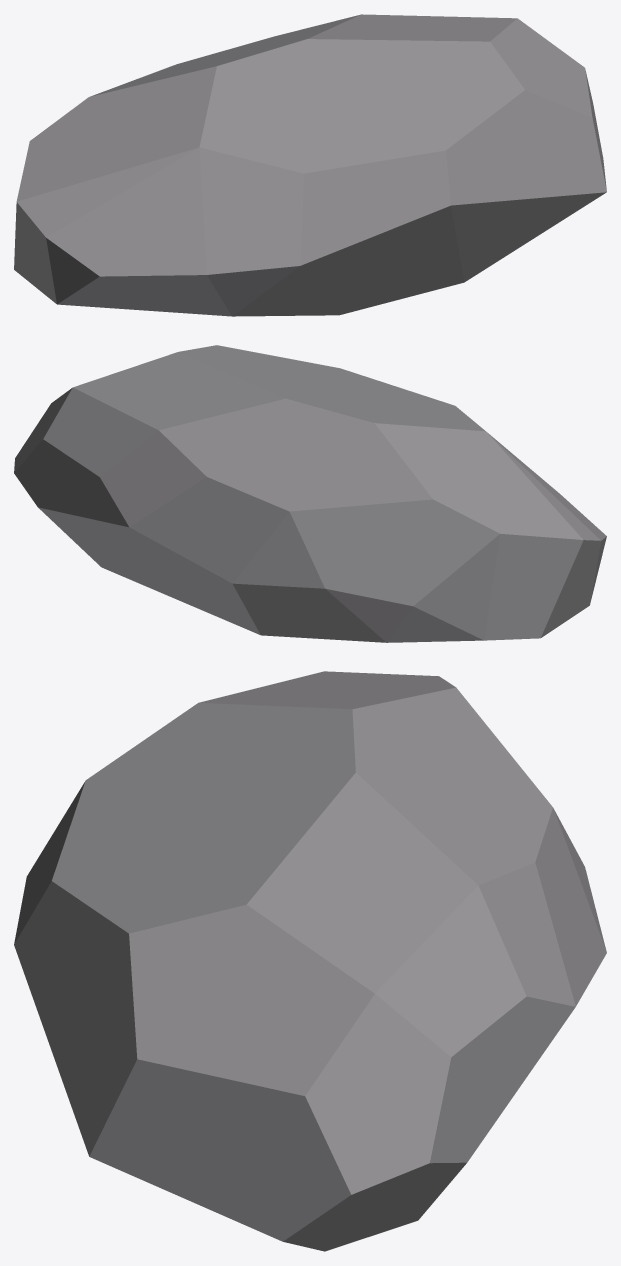
Rendered from Rock_Round_m_06.fbx.
3 renders of one model, top to bottom at view 1: azimuth 30°, elevation 25°; view 2: azimuth 150°, elevation 25°; view 3: azimuth 270°, elevation 25°, orthographic. The views are drawn at different scales.
Visible parts, largest first — view 1: Rock_Round_m_06; view 2: Rock_Round_m_06; view 3: Rock_Round_m_06.
Part boxes in pixels (x1,y1,x2,y2): Rock_Round_m_06: (14, 14, 606, 316); Rock_Round_m_06: (14, 345, 606, 642); Rock_Round_m_06: (14, 671, 606, 1251).
Bounding box in the file's own units: 144 × 47.86 × 81.04.
